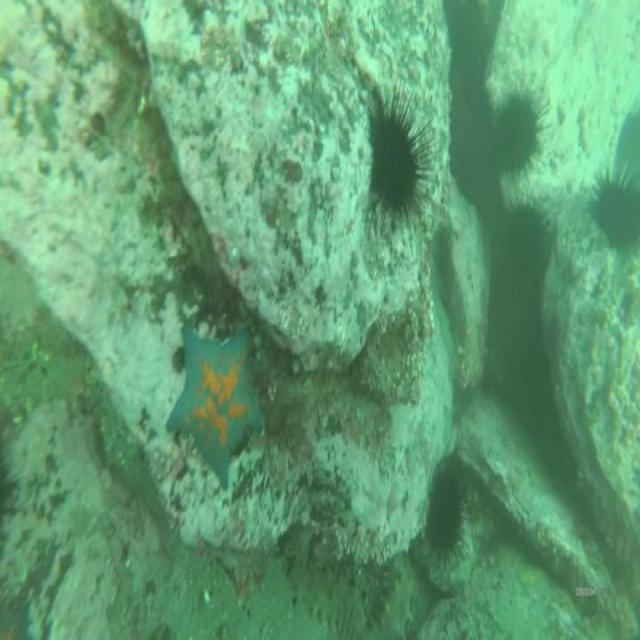echinus: (370, 108, 416, 214), (494, 98, 542, 174), (498, 204, 546, 276), (594, 180, 640, 251), (428, 476, 463, 556)
holothurian: (288, 562, 364, 640), (372, 559, 412, 640)
starfish: (160, 329, 264, 485)
